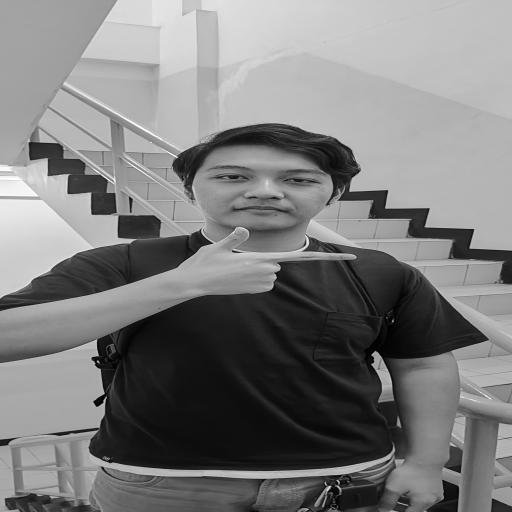next: (166, 224, 370, 303)
